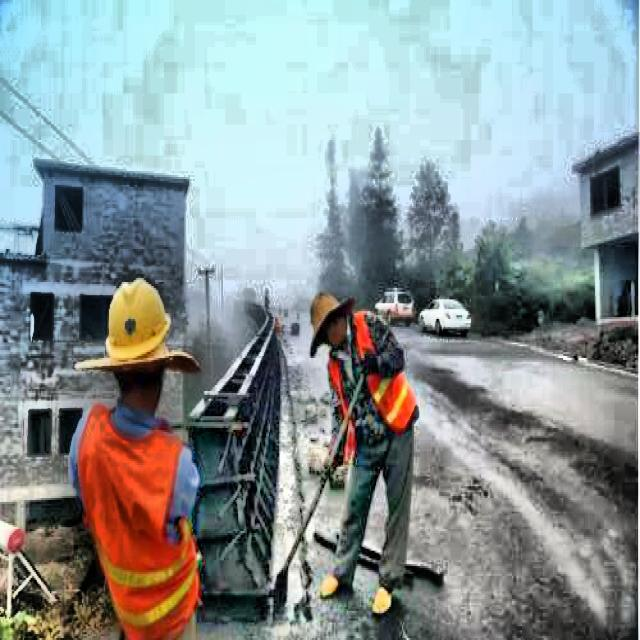helmet: (97, 270, 177, 414), (306, 286, 352, 352)
